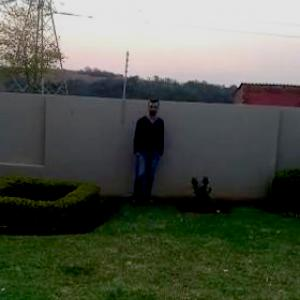follow: (132, 95, 166, 208)
